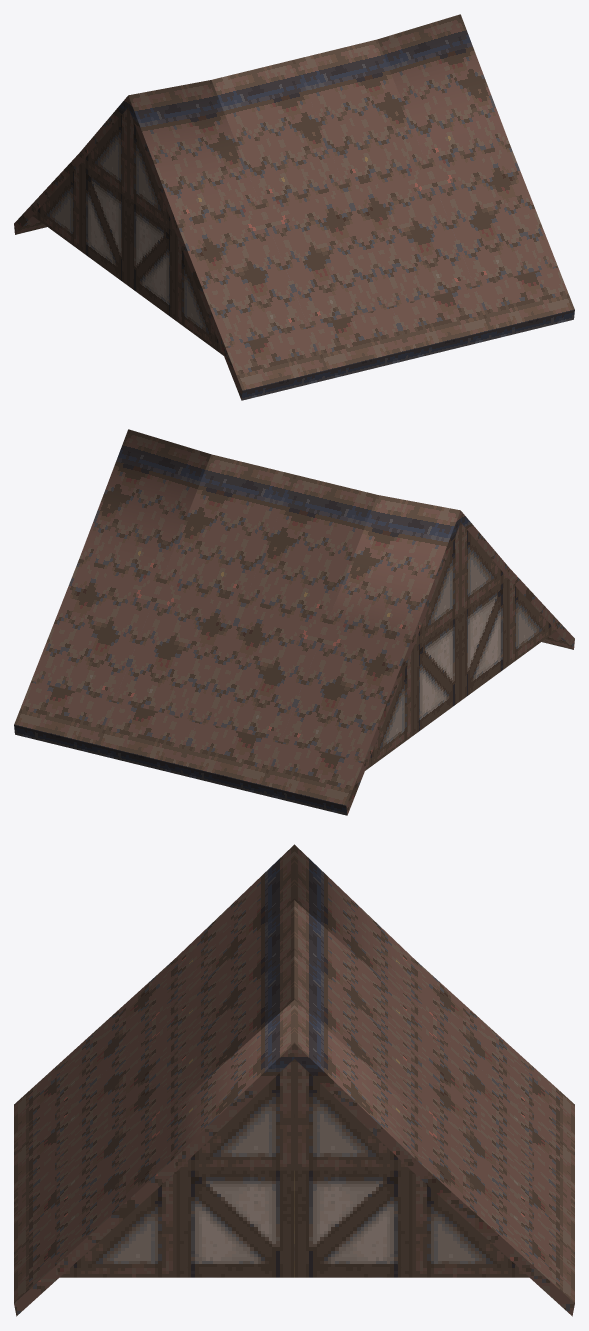
The model's file is roof_red.glb.
The picture shows the model from 3 angles, top to bottom: view 1: azimuth 30°, elevation 25°; view 2: azimuth 150°, elevation 25°; view 3: azimuth 270°, elevation 25°; orthographic projection. The views are drawn at different scales.
Visible parts, largest first — view 1: roof_red; view 2: roof_red; view 3: roof_red.
Boxes of the visible parts, left/top/right/bottom form: roof_red: left=14, top=14, right=574, bottom=400; roof_red: left=14, top=429, right=574, bottom=815; roof_red: left=14, top=844, right=574, bottom=1316.
Bounding box in the file's own units: 5 × 3.2 × 5.96.
1 material, 1 textured.
